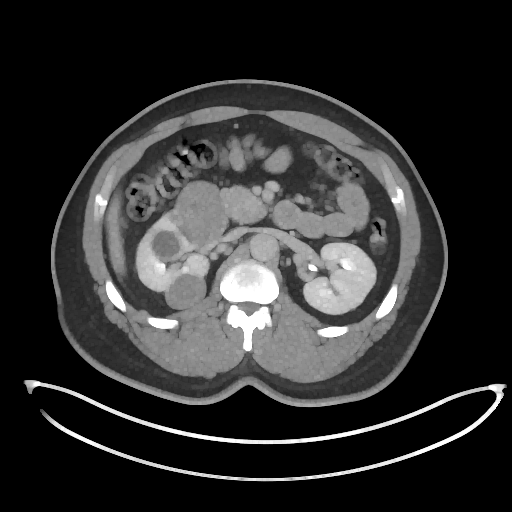Lesion: (170, 180, 230, 249)
